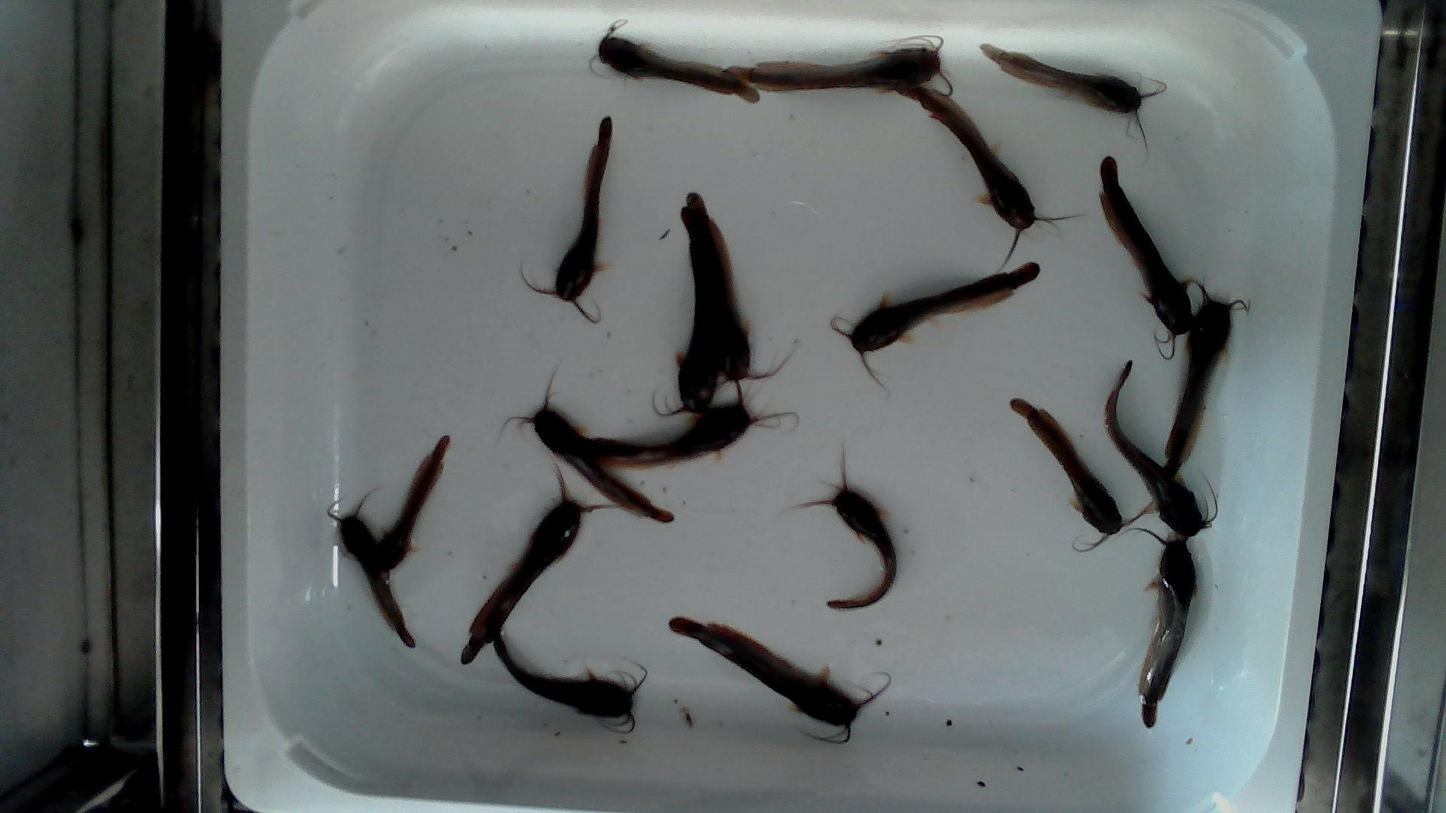lele: (505, 367, 676, 525), (461, 470, 593, 662), (905, 87, 1045, 265), (832, 263, 1039, 377), (670, 617, 877, 730), (1105, 358, 1219, 537), (1099, 152, 1194, 360), (581, 379, 793, 469), (980, 44, 1166, 142), (688, 191, 777, 393), (526, 117, 612, 322), (1115, 527, 1201, 729), (1010, 398, 1124, 550), (493, 631, 649, 736), (1162, 281, 1244, 470), (588, 19, 762, 106), (326, 487, 418, 649), (726, 35, 955, 98), (653, 206, 718, 418), (374, 432, 452, 571), (819, 471, 896, 608)
